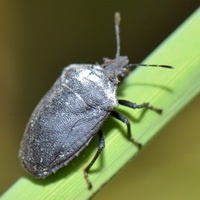insect: (18, 12, 161, 188)
